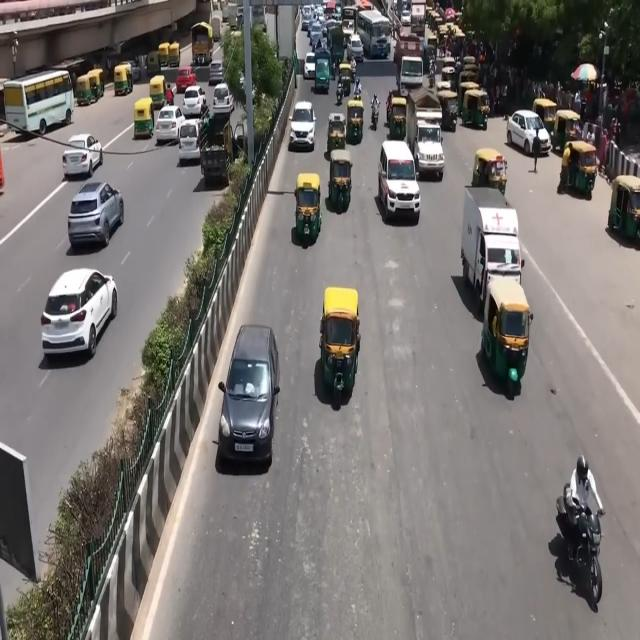auto: (482, 278, 532, 392), (318, 286, 360, 400), (607, 176, 639, 244), (562, 139, 598, 197), (294, 172, 323, 242), (471, 147, 508, 197), (328, 149, 353, 213), (550, 109, 582, 157), (532, 97, 560, 146), (462, 85, 491, 130), (386, 96, 408, 142), (134, 97, 156, 140), (436, 89, 458, 132), (346, 98, 365, 145), (327, 112, 347, 154), (438, 55, 458, 88), (150, 75, 168, 111), (114, 64, 132, 96), (338, 61, 354, 95), (146, 50, 161, 76)
bike-auto: (552, 456, 606, 626), (370, 98, 380, 128), (428, 61, 436, 88), (336, 83, 344, 105)
